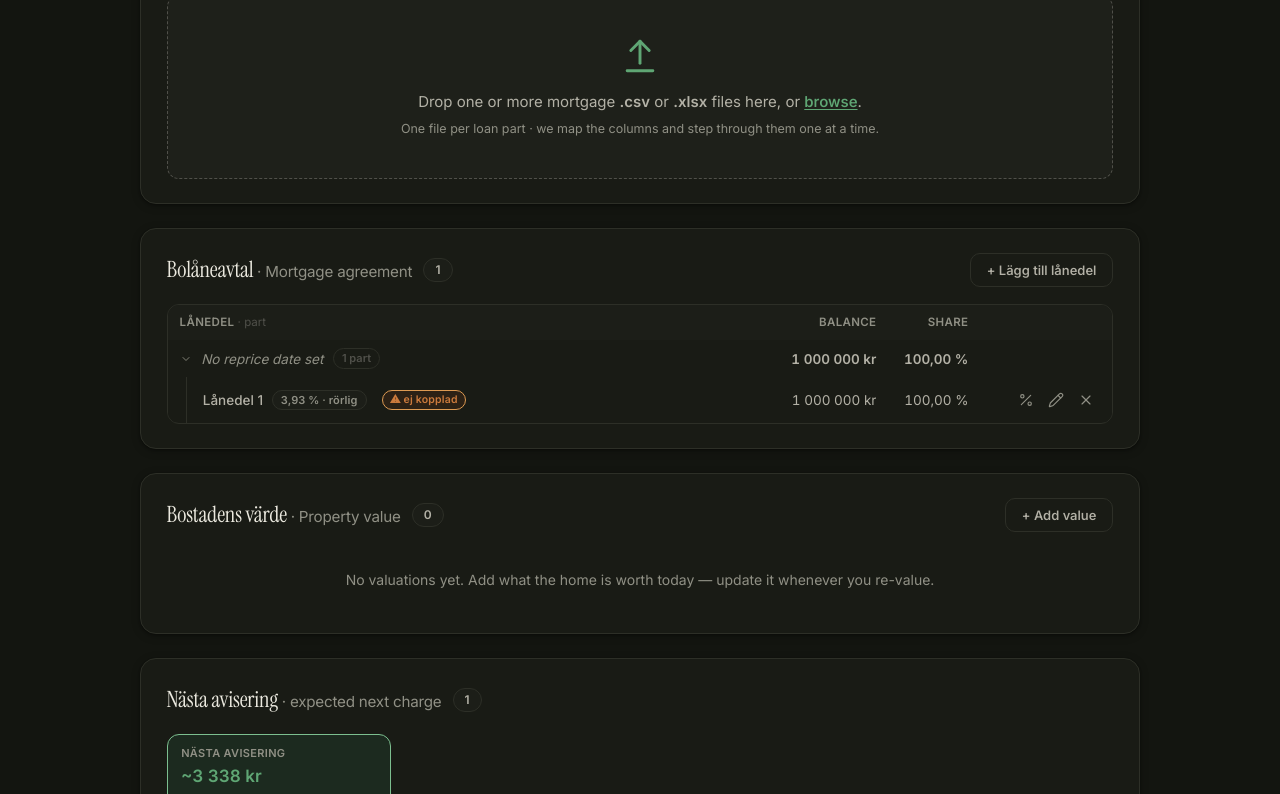
Test: Bolanekoll — editing a rate period from PartDialog closes it and opens the standalone dialog (plan 127 §2) › never stacks PartDialog and the rate-period dialog
(page scrolled)
# Open the part for editing, then choose the period's Redigera action.
Click the button named "Edit": coordinates (1056, 400) [1042,386,1070,414]
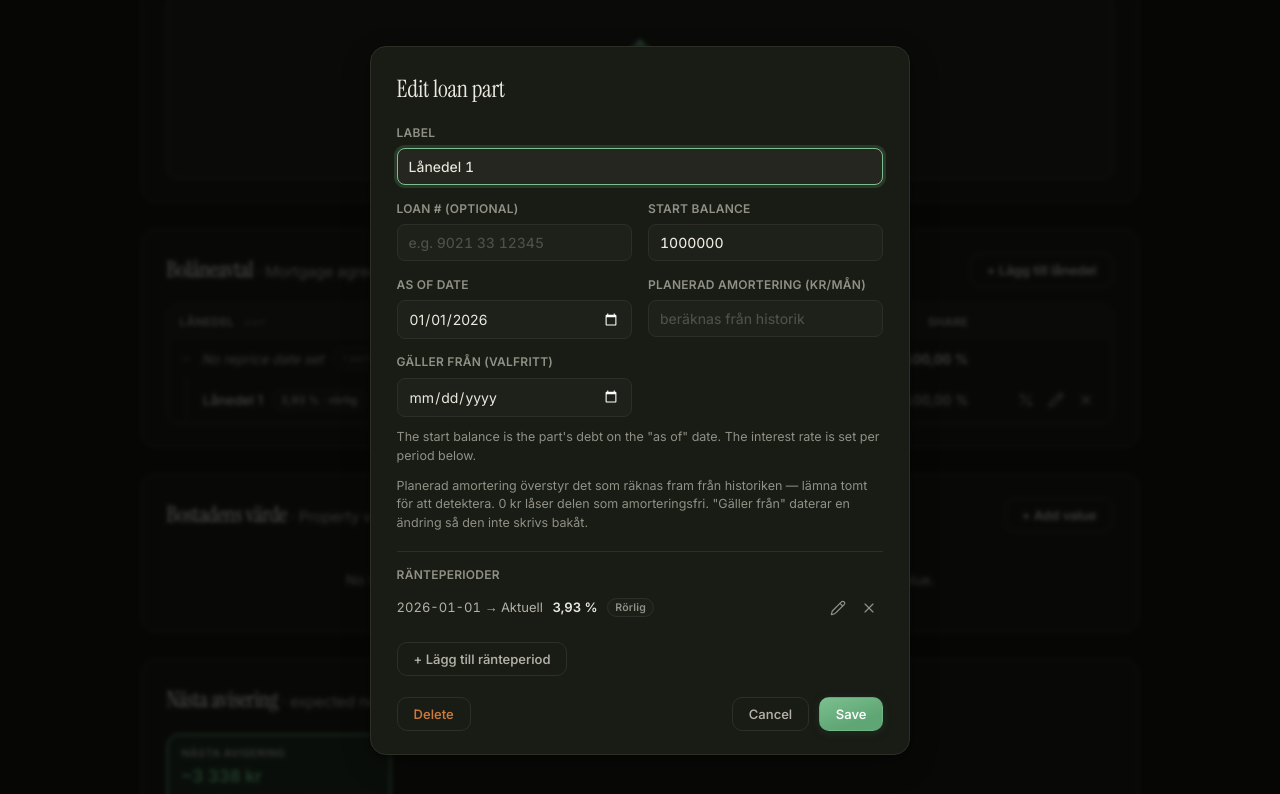
Click the button named "Redigera": coordinates (838, 608) [824,594,852,622]
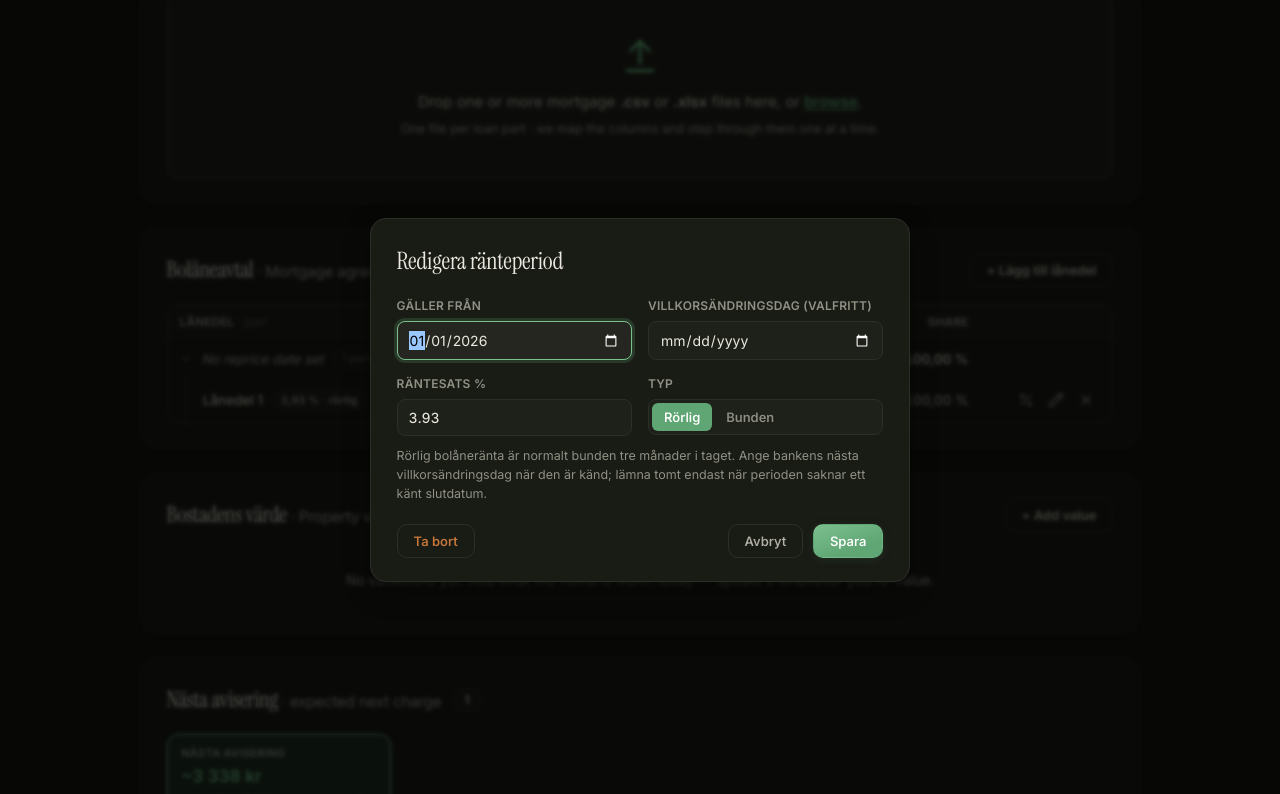
Now the number of dialogs is 1, box [370,218,910,582]
Now the field labelled "Räntesats %" holds "3.93", box [397,399,632,436]
